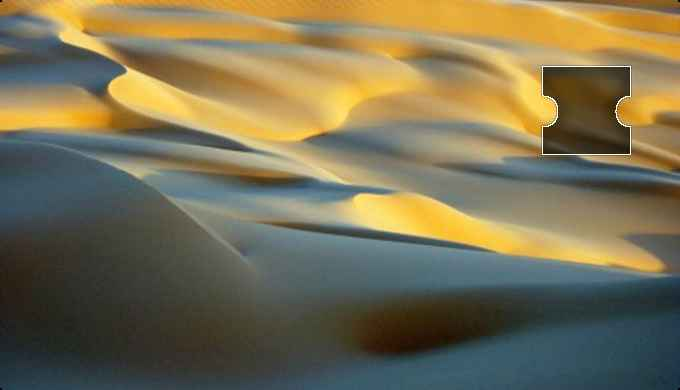gap: (542, 66, 632, 153)
